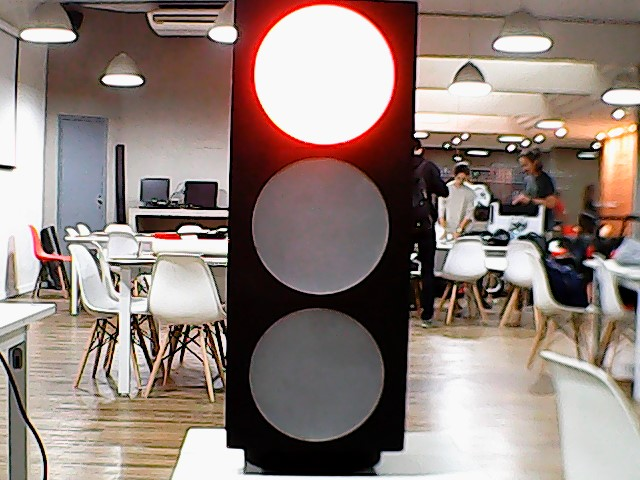vermelho: (225, 1, 418, 476)
